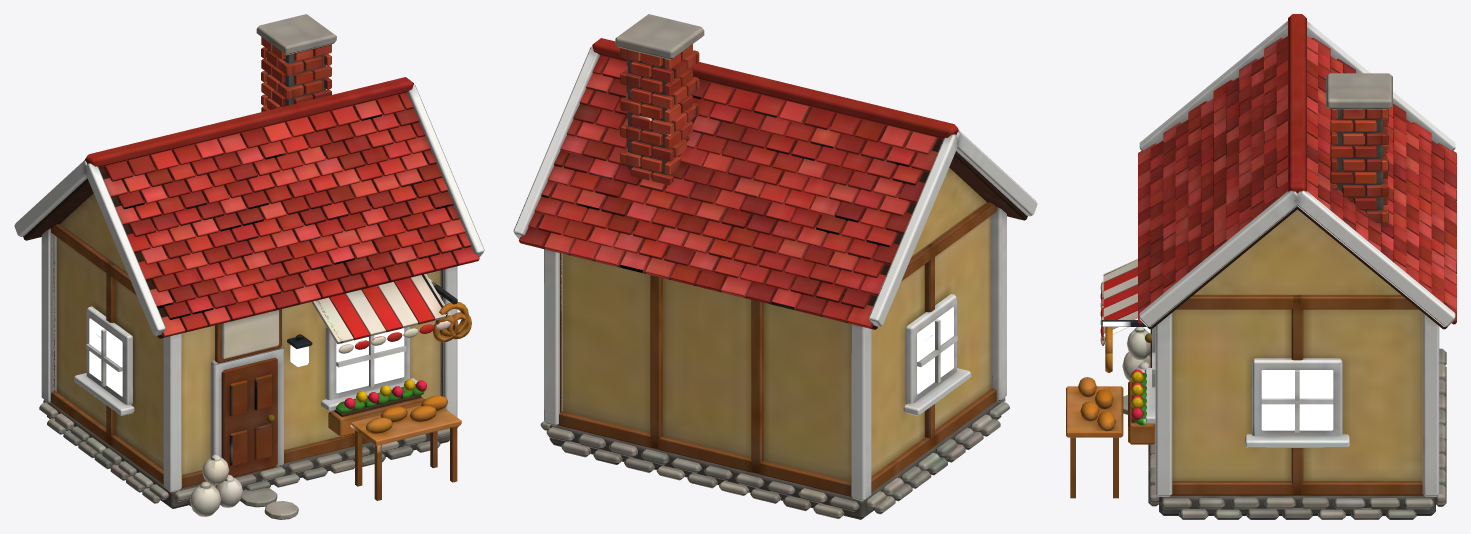
Rendered from bakery.glb.
3 renders of one model, left to right at view 1: azimuth 30°, elevation 25°; view 2: azimuth 150°, elevation 25°; view 3: azimuth 270°, elevation 25°, orthographic. The views are drawn at different scales.
Parts seen in each view (by area): view 1: bakery; view 2: bakery; view 3: bakery.
Boxes of the visible parts, x1=… form: bakery: x1=14, y1=14, x2=484, y2=519; bakery: x1=513, y1=14, x2=1037, y2=519; bakery: x1=1066, y1=14, x2=1456, y2=519.
Size of the model in its own units: 1.74 by 1.85 by 1.64.
Materials: 1 (1 with a texture image).
